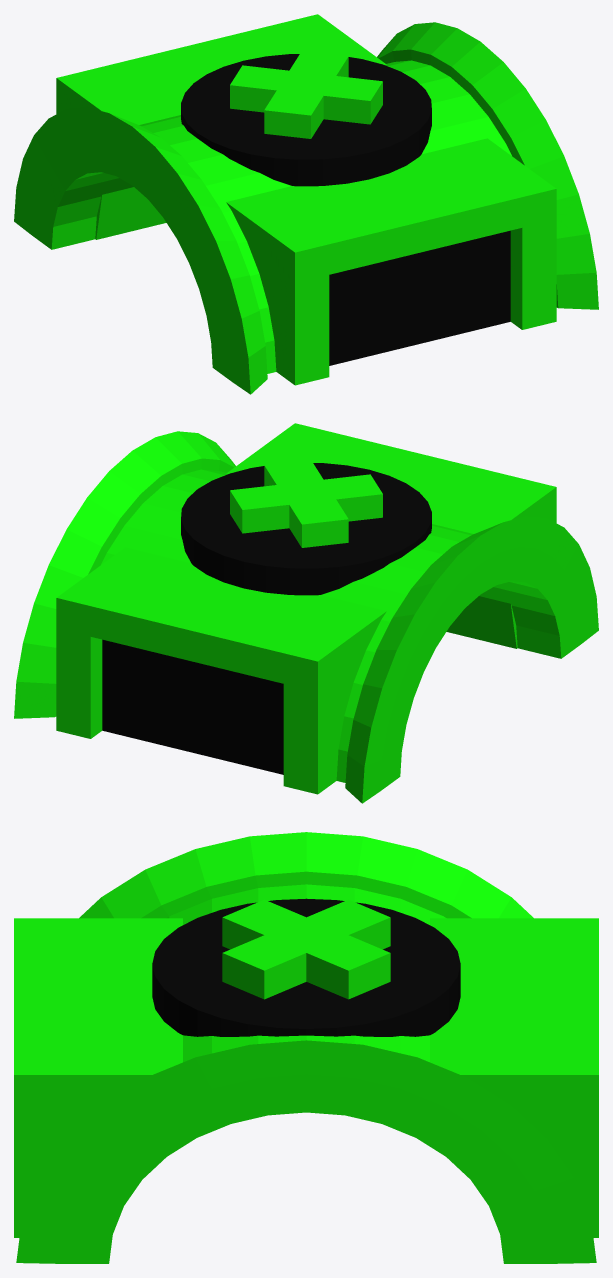
The model's file is MultGate.fbx.
3 views of the same model, one above another, from view 1: azimuth 30°, elevation 25°; view 2: azimuth 150°, elevation 25°; view 3: azimuth 270°, elevation 25° (orthographic). The views are drawn at different scales.
Visible parts, largest first — view 1: Cylinder.001; view 2: Cylinder.001; view 3: Cylinder.001.
Boxes of the visible parts, x1=… form: Cylinder.001: x1=14, y1=14, x2=598, y2=394; Cylinder.001: x1=14, y1=423, x2=598, y2=803; Cylinder.001: x1=14, y1=832, x2=598, y2=1263.
Bounding box in the file's own units: 200 × 100 × 237.
